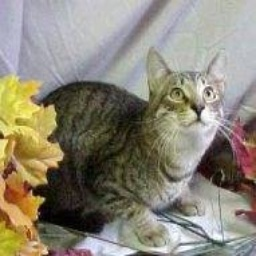cat: (24, 54, 222, 247)
